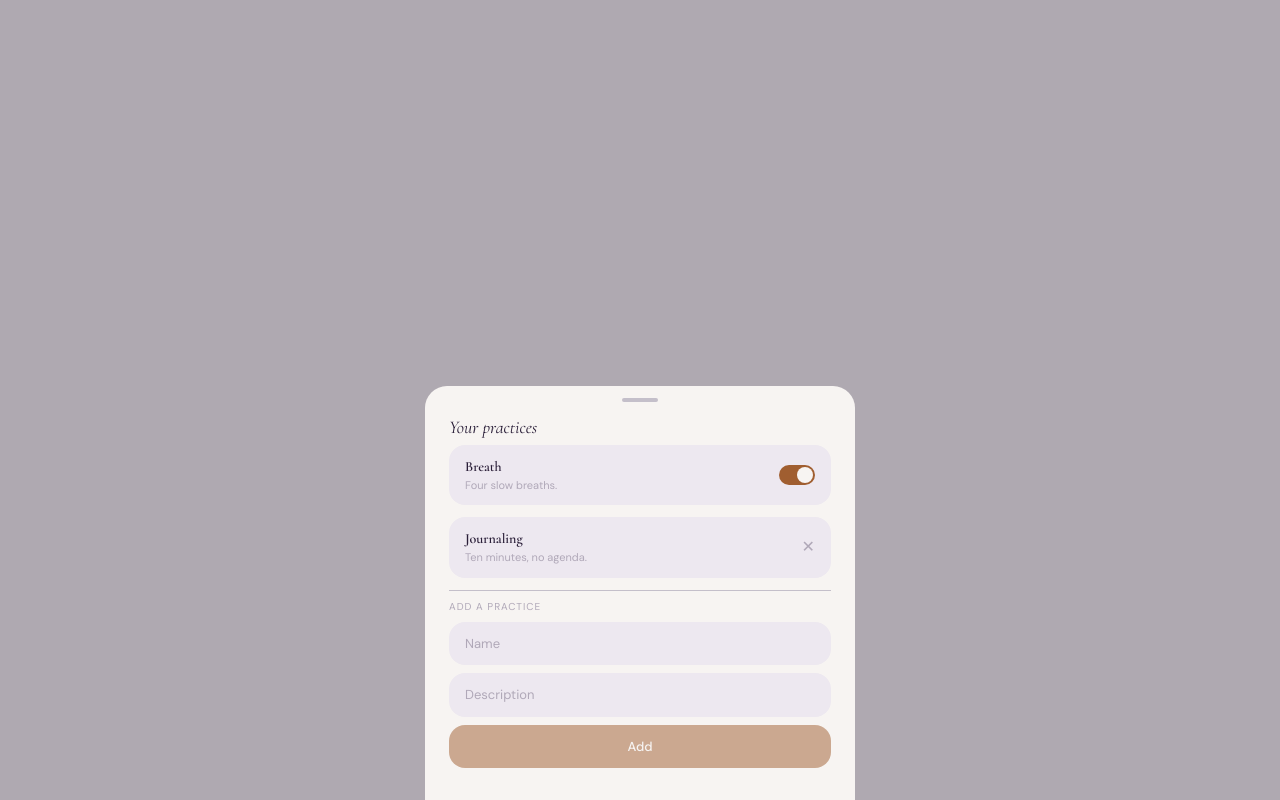
PracticeEditor › Add button is enabled when name is filled
The image size is (1280, 800).
Type "Running" into the field with placeholder "Name". click: {"x": 640, "y": 643}
box: [449,622,831,665]
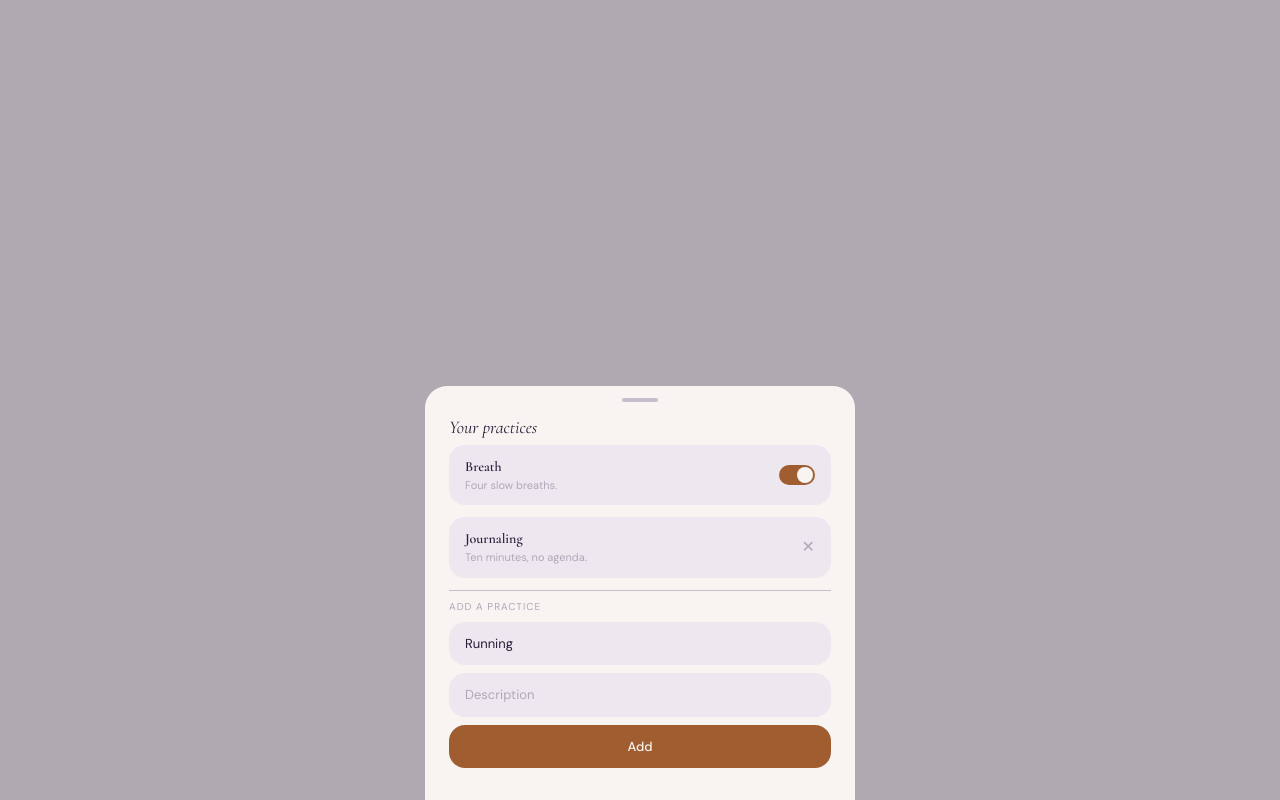
Expected: the button "Add" is enabled, [449,724,831,768]
